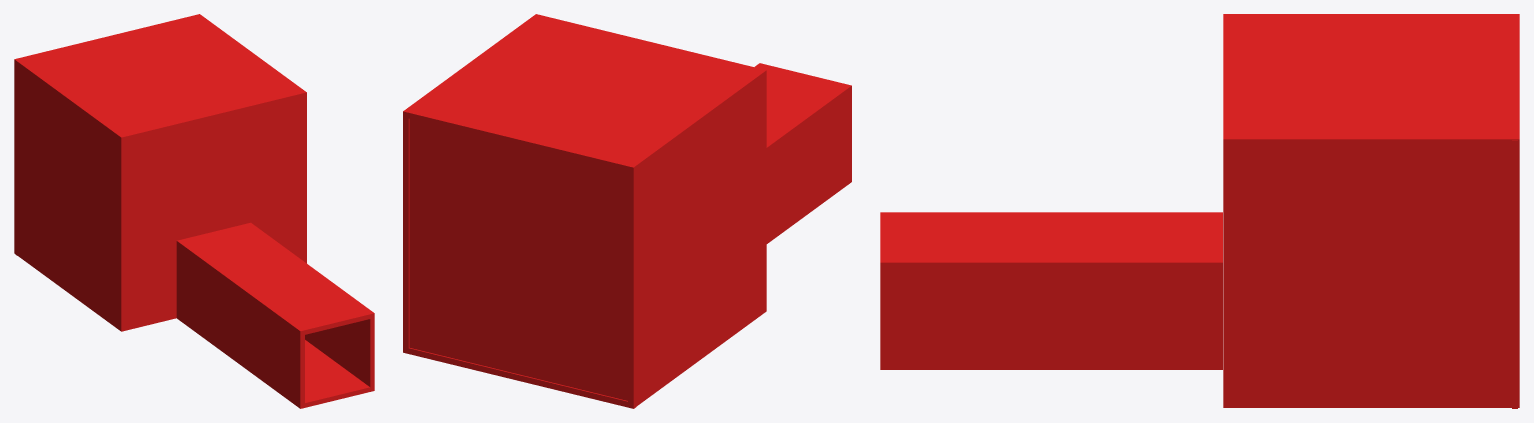
The model's file is Boss Room.fbx.
The picture shows the model from 3 angles, left to right: view 1: azimuth 30°, elevation 25°; view 2: azimuth 150°, elevation 25°; view 3: azimuth 270°, elevation 25°; orthographic projection. The views are drawn at different scales.
Parts seen in each view (by area): view 1: Boss Room; view 2: Boss Room; view 3: Boss Room.
Boxes of the visible parts, x1,y1,x2,y2 form: Boss Room: [14, 14, 374, 408]; Boss Room: [403, 14, 851, 408]; Boss Room: [880, 14, 1519, 408].
Bounding box in the file's own units: 250 × 251 × 539.
